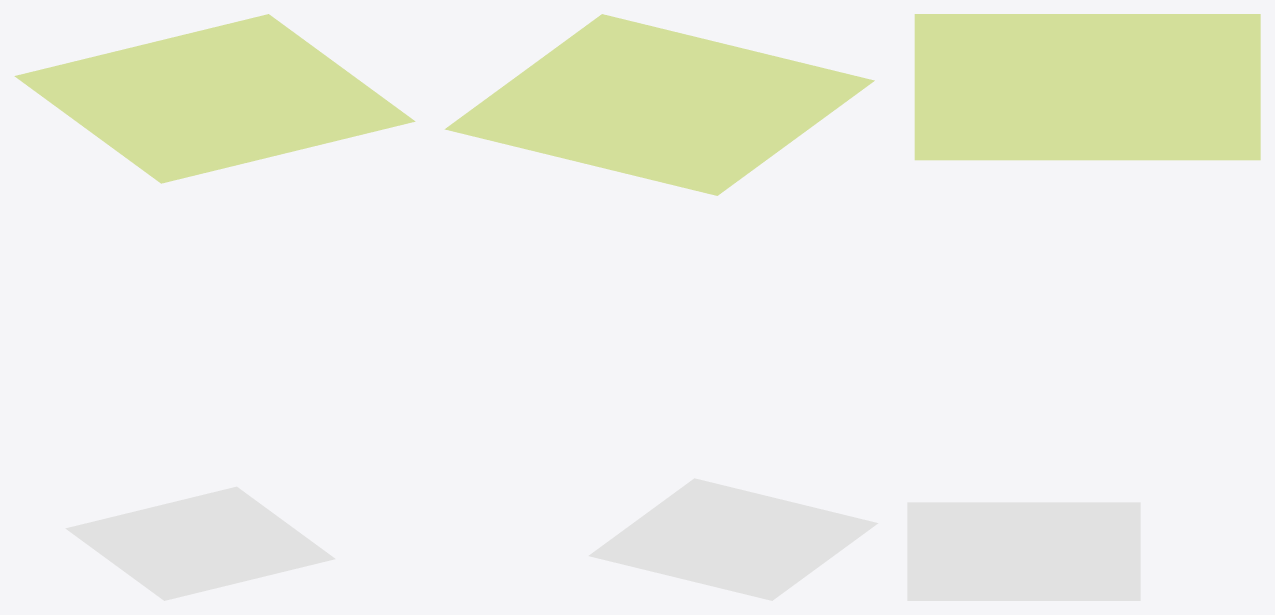
The model's file is GRASS.glb.
3 views of the same model, side by side, from view 1: azimuth 30°, elevation 25°; view 2: azimuth 150°, elevation 25°; view 3: azimuth 270°, elevation 25° (orthographic). The views are drawn at different scales.
Parts seen in each view (by area): view 1: Plane.001, Plane; view 2: Plane.001, Plane; view 3: Plane.001, Plane.
Boxes of the visible parts, x1=… form: Plane.001: x1=14, y1=14, x2=415, y2=183; Plane: x1=65, y1=486, x2=335, y2=600; Plane.001: x1=444, y1=14, x2=874, y2=195; Plane: x1=588, y1=478, x2=878, y2=600; Plane.001: x1=914, y1=14, x2=1260, y2=160; Plane: x1=907, y1=502, x2=1140, y2=600.
Size of the model in its own units: 10.12 by 15.76 by 10.34.
